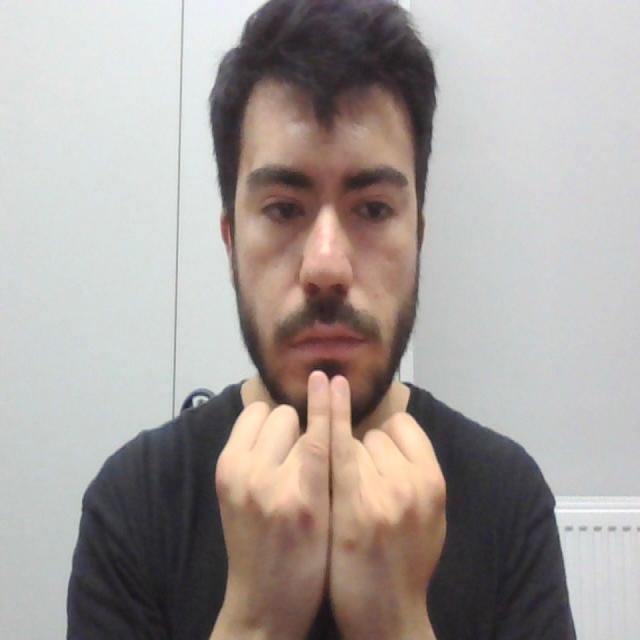Kardes: (204, 361, 452, 640)
